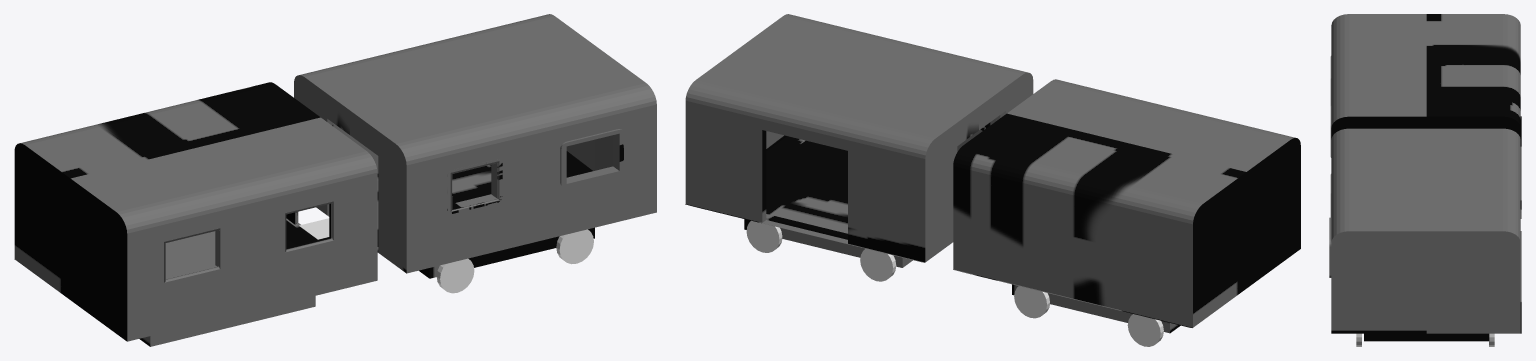
The model's file is Train.fbx.
The picture shows the model from 3 angles, left to right: view 1: azimuth 30°, elevation 25°; view 2: azimuth 150°, elevation 25°; view 3: azimuth 270°, elevation 25°; orthographic projection. The views are drawn at different scales.
Parts seen in each view (by area): view 1: WallWindows.001, WallWindows, BodyWall.001, BodyWall, Body.001, Body, Window2, Window, Wheel, Wheel.001; view 2: BodyWall.001, BodyWall, WallWindows.001, WallWindows, Body, Body.001, Wheel.002, Wheel.005, Wheel.003, Wheel.004; view 3: WallWindows, BodyWall, WallWindows.001, BodyWall.001, Body, Body.001, Window2.
Boxes of the visible parts, <box> form: WallWindows.001: <box>70,117,377,341</box>; WallWindows: <box>350,49,656,273</box>; BodyWall.001: <box>14,82,320,299</box>; BodyWall: <box>294,14,599,215</box>; Body.001: <box>139,218,317,346</box>; Body: <box>328,151,594,278</box>; Window2: <box>560,129,624,187</box>; Window: <box>447,159,502,213</box>; Wheel: <box>556,229,593,264</box>; Wheel.001: <box>436,258,474,293</box>; BodyWall.001: <box>953,113,1246,327</box>; BodyWall: <box>685,48,978,262</box>; WallWindows.001: <box>1007,79,1300,287</box>; WallWindows: <box>739,14,1033,151</box>; Body: <box>685,135,924,267</box>; Body.001: <box>953,269,1192,333</box>; Wheel.002: <box>860,249,896,281</box>; Wheel.005: <box>1127,314,1163,346</box>; Wheel.003: <box>746,220,782,252</box>; Wheel.004: <box>1014,286,1049,318</box>; WallWindows: <box>1330,128,1426,333</box>; BodyWall: <box>1426,128,1520,333</box>; WallWindows.001: <box>1330,14,1426,157</box>; BodyWall.001: <box>1426,14,1520,138</box>; Body: <box>1364,231,1521,341</box>; Body.001: <box>1520,116,1521,218</box>; Window2: <box>1329,217,1331,277</box>.
Size of the model in its own units: 1458 by 442 by 545.
